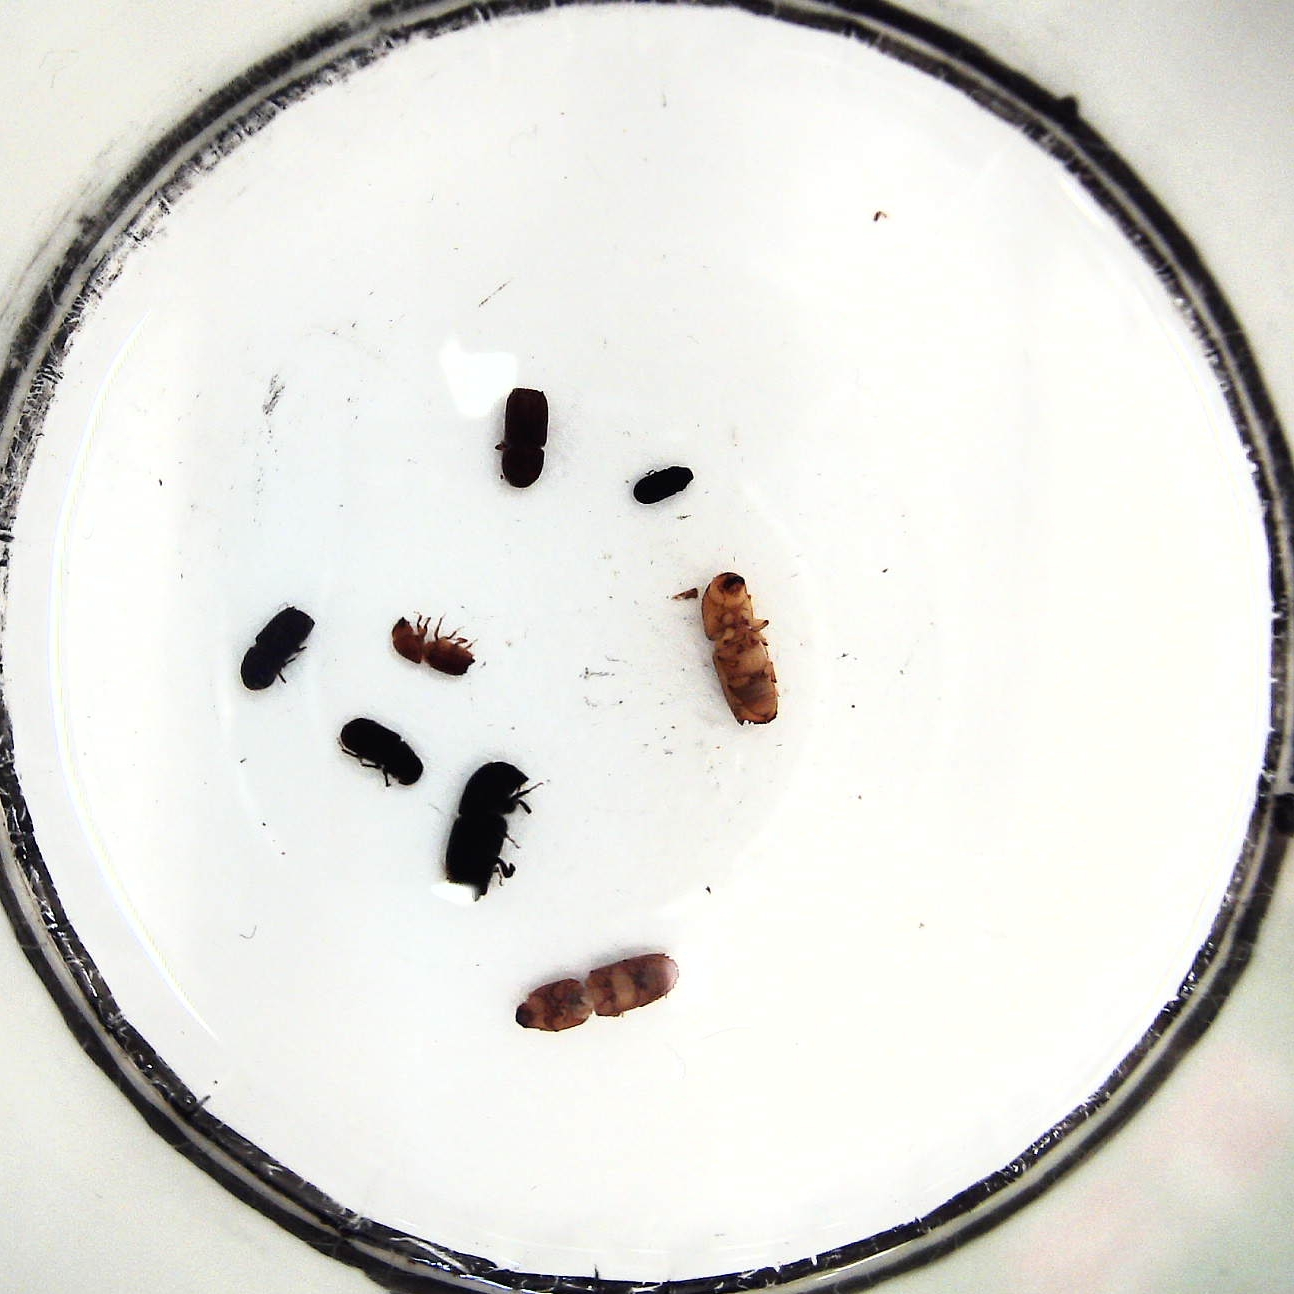Boerner: (510, 950, 683, 1029), (697, 571, 780, 734), (441, 760, 534, 896)
Linnaeus: (235, 604, 316, 700), (494, 382, 555, 494)
acuminatus: (390, 609, 480, 684)
armandi: (337, 717, 428, 789)
coleoptera: (630, 461, 697, 510)
